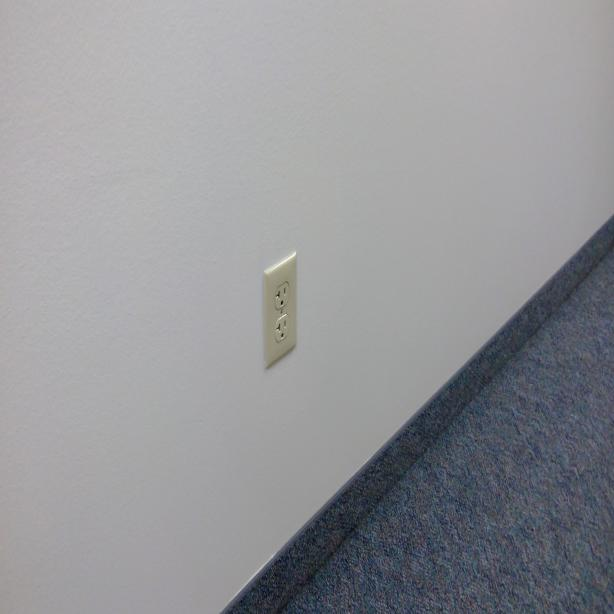typeb: (274, 316, 291, 343), (274, 283, 290, 310)
